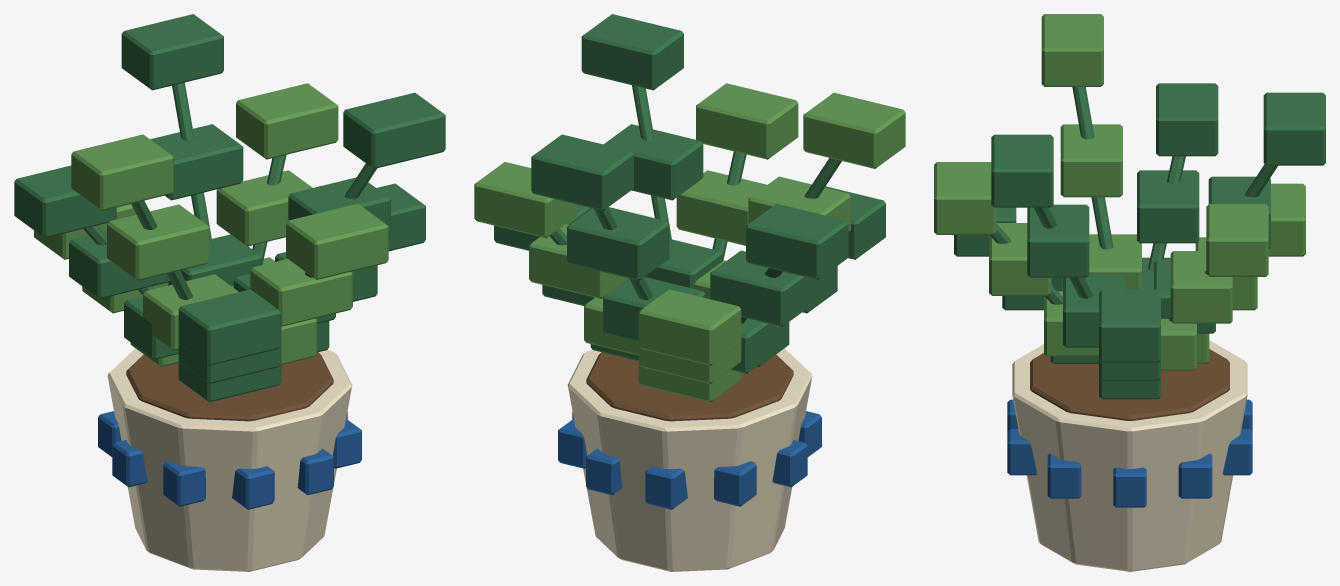
The model's file is ceramic_fern.glb.
The picture shows the model from 3 angles, left to right: view 1: azimuth 30°, elevation 25°; view 2: azimuth 150°, elevation 25°; view 3: azimuth 270°, elevation 25°; orthographic projection.
Parts seen in each view (by area): view 1: ceramic_fern__body__green, ceramic_fern__body__green2, ceramic_fern__body__cream, ceramic_fern__body__azure, ceramic_fern__body__soil; view 2: ceramic_fern__body__green, ceramic_fern__body__green2, ceramic_fern__body__cream, ceramic_fern__body__azure, ceramic_fern__body__soil; view 3: ceramic_fern__body__green, ceramic_fern__body__green2, ceramic_fern__body__cream, ceramic_fern__body__soil, ceramic_fern__body__azure.
Part boxes in pixels (box(x1,y1,x2,y2)): ceramic_fern__body__green: box(14, 14, 445, 402); ceramic_fern__body__green2: box(34, 83, 388, 366); ceramic_fern__body__cream: box(107, 348, 352, 571); ceramic_fern__body__azure: box(98, 411, 361, 509); ceramic_fern__body__soil: box(126, 352, 333, 421); ceramic_fern__body__green: box(494, 14, 885, 373); ceramic_fern__body__green2: box(474, 83, 905, 402); ceramic_fern__body__cream: box(567, 348, 812, 571); ceramic_fern__body__azure: box(558, 411, 821, 509); ceramic_fern__body__soil: box(586, 352, 793, 421); ceramic_fern__body__green: box(954, 83, 1325, 399); ceramic_fern__body__green2: box(934, 14, 1305, 370); ceramic_fern__body__cream: box(1012, 340, 1247, 571); ceramic_fern__body__soil: box(1030, 349, 1229, 420); ceramic_fern__body__azure: box(1007, 399, 1252, 507).
Size of the model in its own units: 0.8589 by 1 by 0.8194.
